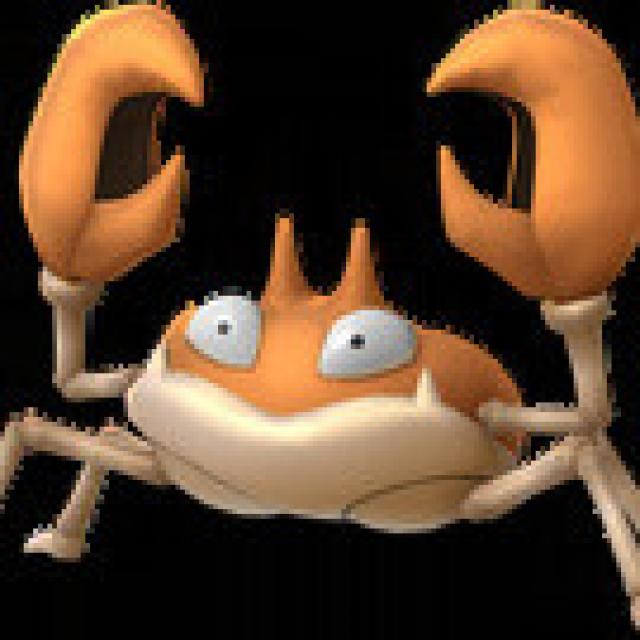Krabby: (68, 38, 595, 577)
